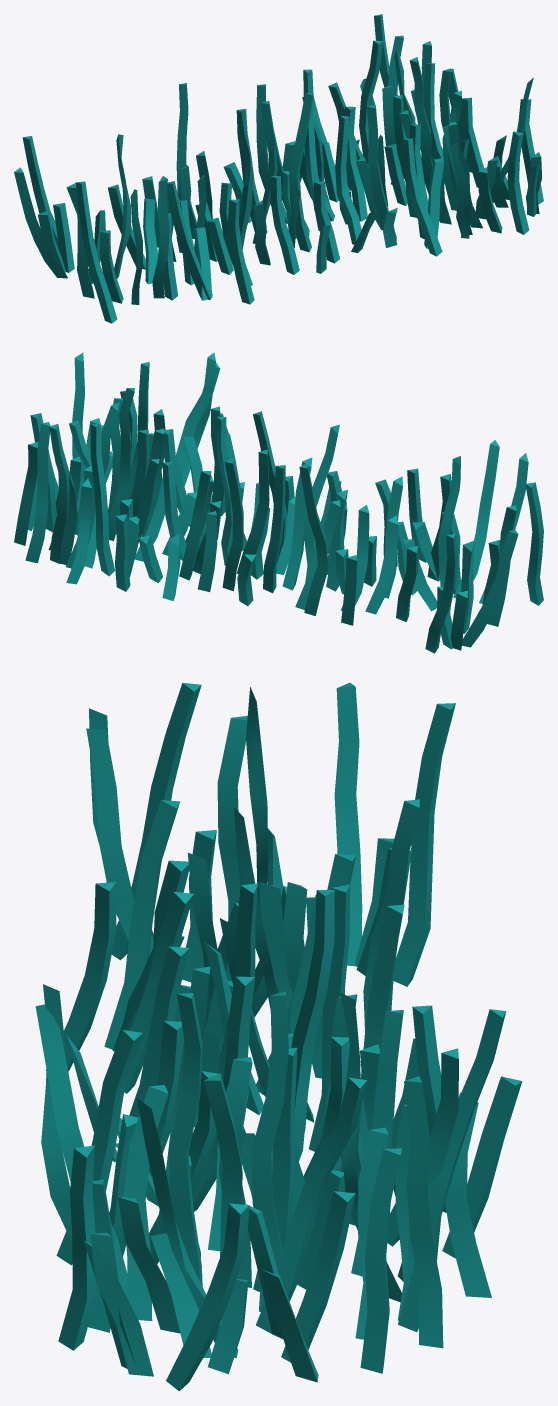
File: coral_anemone_B_dense.fbx
The picture shows the model from 3 angles, top to bottom: view 1: azimuth 30°, elevation 25°; view 2: azimuth 150°, elevation 25°; view 3: azimuth 270°, elevation 25°; orthographic projection. The views are drawn at different scales.
Visible parts, largest first — view 1: coral_anemone_B_dense; view 2: coral_anemone_B_dense; view 3: coral_anemone_B_dense.
Boxes of the visible parts, left/top/right/bottom form: coral_anemone_B_dense: left=14, top=14, right=543, bottom=323; coral_anemone_B_dense: left=14, top=352, right=543, bottom=653; coral_anemone_B_dense: left=35, top=682, right=522, bottom=1391.
Size of the model in its own units: 244 by 73.88 by 105.
